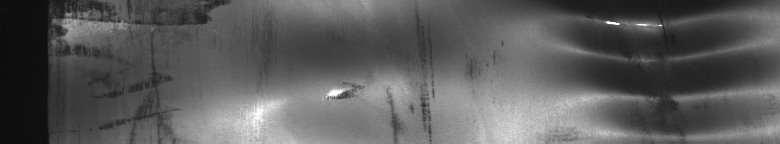ke: (572, 12, 744, 136)
